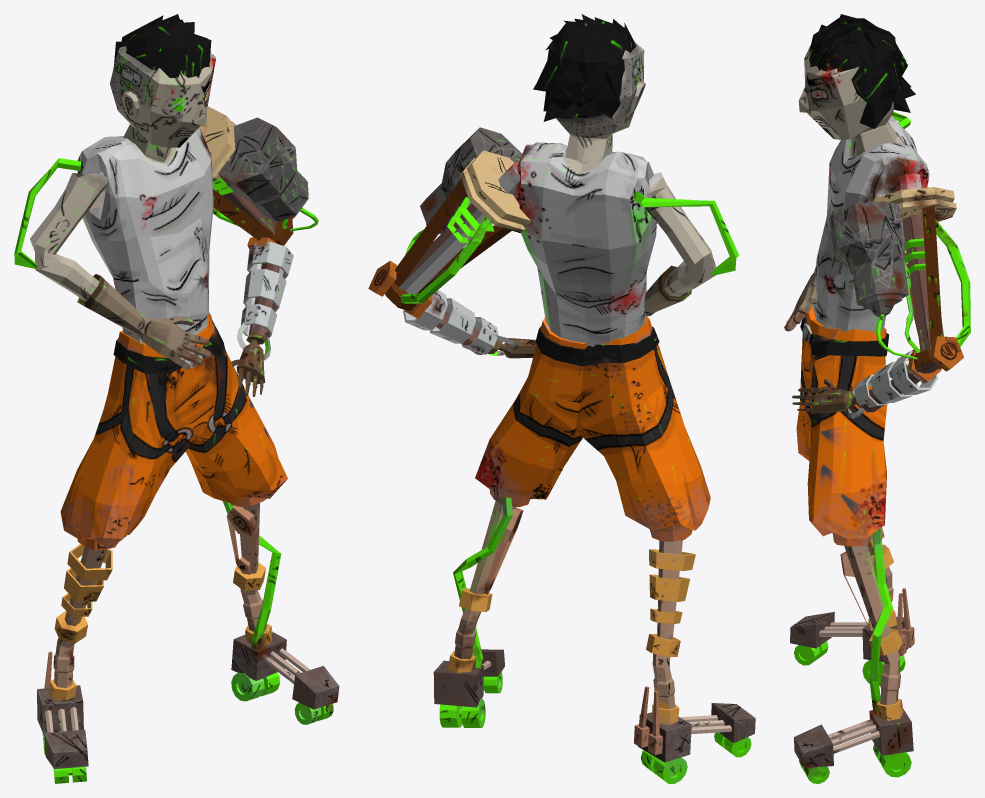
File: CyborgFINALAnimation_000011.obj
3 renders of one model, left to right at view 1: azimuth 30°, elevation 25°; view 2: azimuth 150°, elevation 25°; view 3: azimuth 270°, elevation 25°, orthographic. The views are drawn at different scales.
Visible parts, largest first — view 1: CyborgMesh_Cube.002; view 2: CyborgMesh_Cube.002; view 3: CyborgMesh_Cube.002.
Part boxes in pixels (x1=…): CyborgMesh_Cube.002: x1=14, y1=14, x2=339, y2=783; CyborgMesh_Cube.002: x1=368, y1=14, x2=755, y2=783; CyborgMesh_Cube.002: x1=784, y1=14, x2=970, y2=783.
Size of the model in its own units: 4.48 by 9.62 by 2.32.
